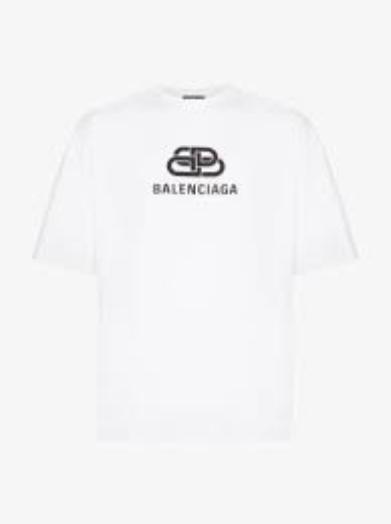BALENCIAGA: (165, 141, 225, 178)
